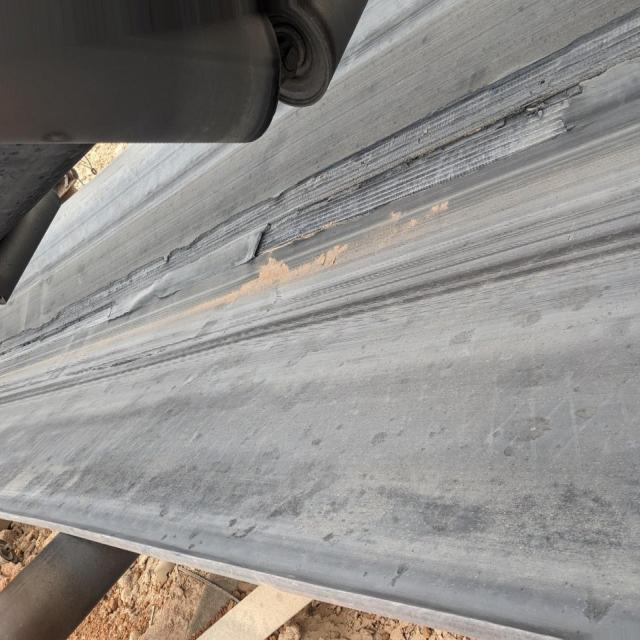Roller: (41, 4, 285, 146), (280, 3, 367, 103), (1, 191, 65, 302)
Tear: (2, 10, 640, 340)
